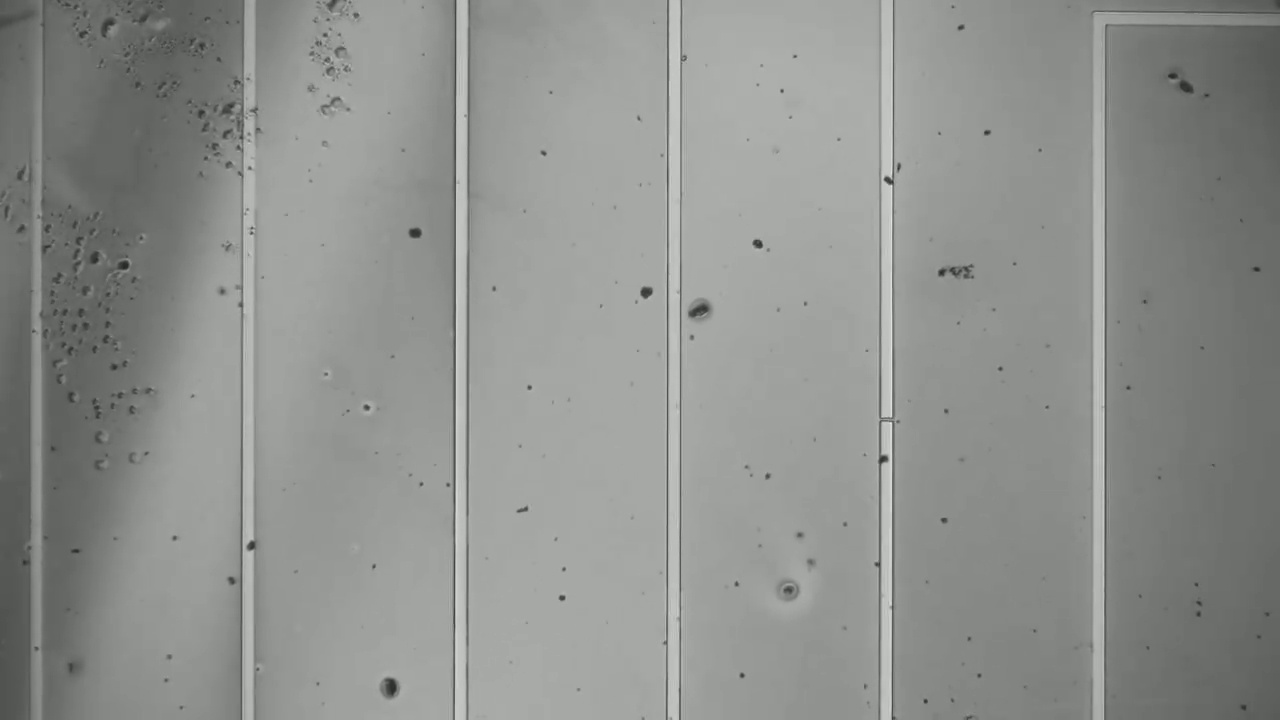open: (872, 406, 902, 429)
stains_enbedded: (234, 530, 267, 560), (871, 447, 905, 472), (875, 166, 898, 193)
